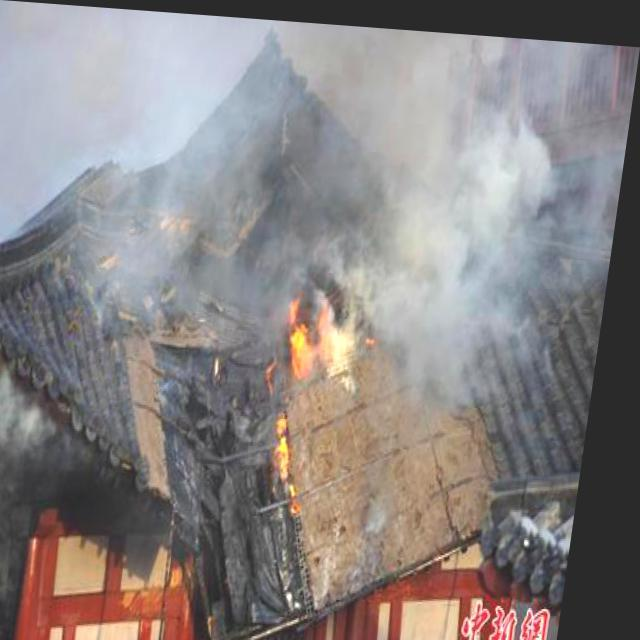Fire: (282, 282, 362, 366), (276, 402, 322, 508)
